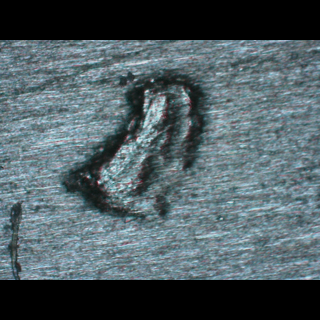d: (55, 68, 217, 227)
